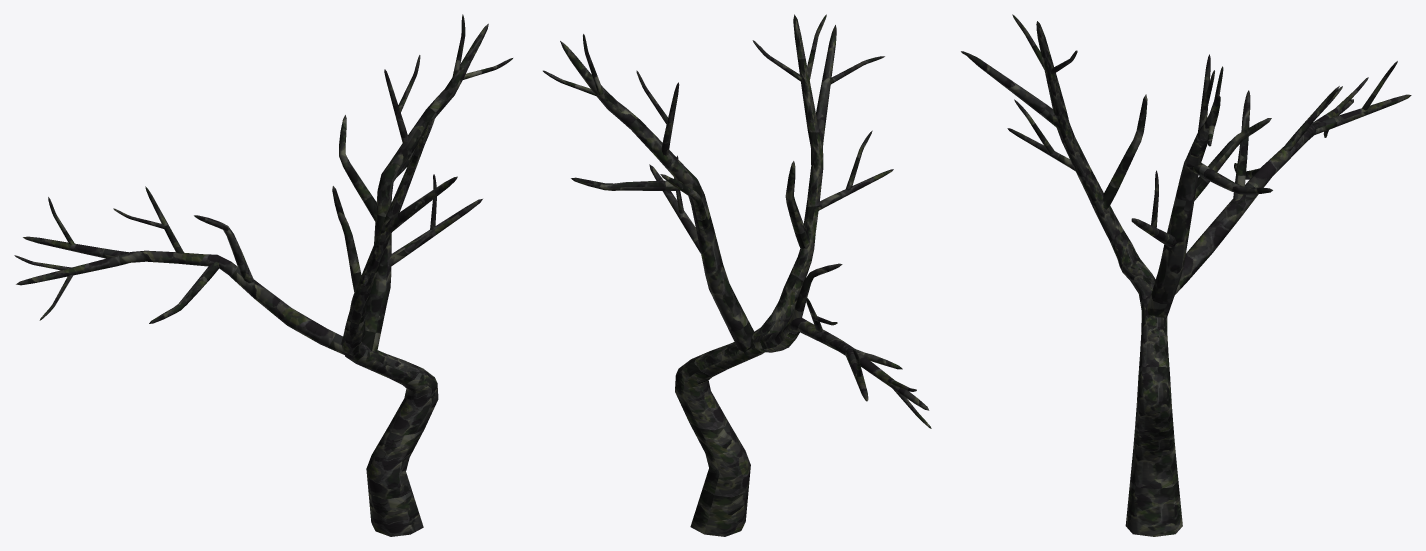
The model's file is dead_tree_7.glb.
The picture shows the model from 3 angles, left to right: view 1: azimuth 30°, elevation 25°; view 2: azimuth 150°, elevation 25°; view 3: azimuth 270°, elevation 25°; orthographic projection. The views are drawn at different scales.
Parts seen in each view (by area): view 1: DeadTree_72; view 2: DeadTree_72; view 3: DeadTree_72.
Boxes of the visible parts, bbox=[...] form: DeadTree_72: bbox=[14, 14, 512, 536]; DeadTree_72: bbox=[543, 14, 931, 536]; DeadTree_72: bbox=[961, 14, 1411, 536].
Bounding box in the file's own units: 6.14 × 6.31 × 5.03.
1 material, 1 textured.
